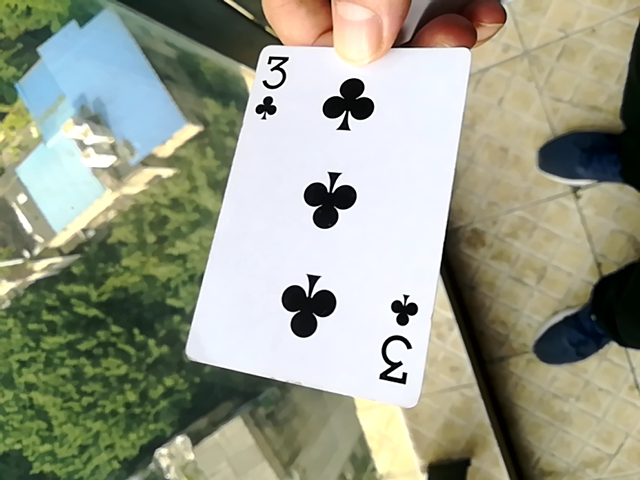mh 3: (185, 41, 473, 418)
